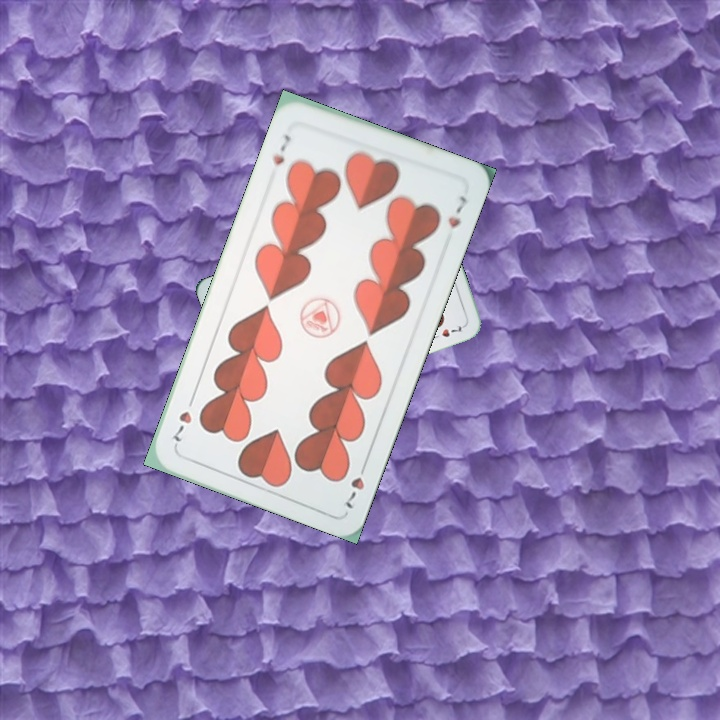H7: (341, 456, 370, 512), (268, 130, 294, 169)
